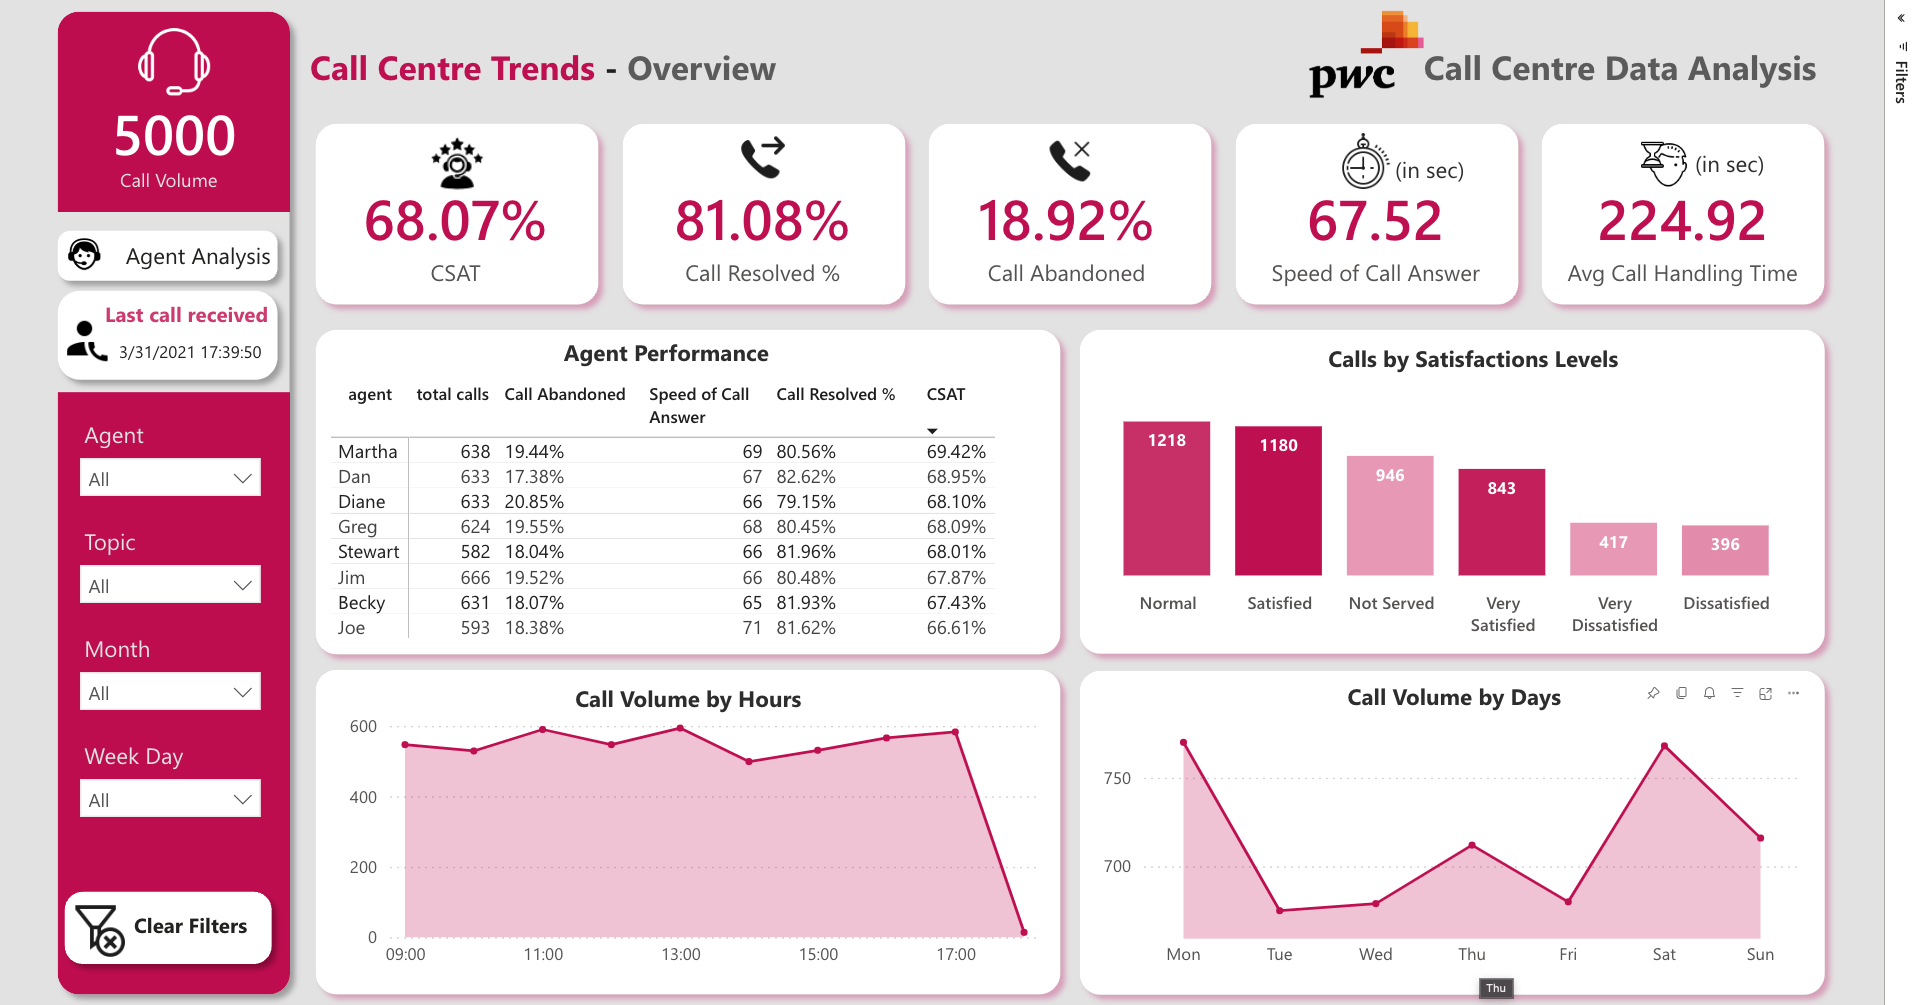

The page's visual inventory and layout, read from the dashboard file:
{"tool":"powerbi","page":{"name":"Dashboard","canvas":[1280,720],"ordinal":1},"visuals":[{"type":"shape","box":[0,0,184,720],"z":0,"group":"g1"},{"type":"group","id":"g1","title":"BG","box":[0,0,1280,720],"z":0},{"type":"shape","box":[184,79.9,220,147.2],"z":0,"group":"g2"},{"type":"slicer","title":"Agent","fields":{"Values":["calls.agent"]},"box":[14.5,288.2,155,80],"z":0,"group":"g3"},{"type":"image","box":[58.2,14.5,67.3,50.9],"z":1000},{"type":"shape","box":[403,79.9,220,147.2],"z":1000,"group":"g2"},{"type":"shape","box":[184,227.1,550,250],"z":1000,"group":"g1"},{"type":"slicer","title":"Topic","fields":{"Values":["calls.topic"]},"box":[14.5,367.3,155,80],"z":1000,"group":"g3"},{"type":"shape","box":[622,79.9,220,147.2],"z":2000,"group":"g2"},{"type":"cardVisual","fields":{"Data":["measeure_table.total calls"]},"box":[199.7,130.7,172.8,79.7],"z":2000,"group":"g1"},{"type":"slicer","title":"Month","fields":{"Values":["calls.Month YY"]},"box":[14.5,446.4,155,80],"z":2000,"group":"g3"},{"type":"textbox","box":[184,26.9,357.3,53],"z":3000,"group":"g1"},{"type":"shape","box":[841,79.9,220,147.2],"z":3000,"group":"g2"},{"type":"slicer","title":"Week Day","fields":{"Values":["calls.Day Name"]},"box":[14.5,525.5,155,80],"z":3000,"group":"g3"},{"type":"image","box":[897.8,0,91.6,79.9],"z":4000,"group":"g1"},{"type":"shape","box":[1060,79.9,220,147.2],"z":4000,"group":"g2"},{"type":"textbox","box":[967.8,26.9,302.5,53],"z":5000,"group":"g1"},{"type":"group","id":"g2","title":"Group 1","box":[184,79.9,1096,147.2],"z":6000,"group":"g1"},{"type":"cardVisual","fields":{"Data":["measeure_table.CSAT"]},"box":[200,128.2,189.1,88.2],"z":6000},{"type":"shape","box":[729.7,227.1,550.3,249.6],"z":7000,"group":"g1"},{"type":"pivotTable","fields":{"Rows":["calls.agent"],"Values":["measeure_table.Total Calls","measeure_table.call abandoned %","measeure_table.Speed of Answer","measeure_table.call resolved %","measeure_table.CSAT"]},"box":[196.4,275.5,520.9,204.5],"z":7000},{"type":"shape","box":[184,470,550,250],"z":8000,"group":"g1"},{"type":"lineChart","fields":{"Category":["calls.Hour"],"Y":["measeure_table.Total Calls"]},"box":[200,508.2,515.5,190.9],"z":8000},{"type":"shape","box":[729.7,470.4,550.3,249.6],"z":9000,"group":"g1"},{"type":"lineChart","fields":{"Category":["calls.Day Name"],"Y":["measeure_table.Total Calls"]},"box":[748.2,508.2,515.5,191.8],"z":9000},{"type":"shape","box":[7.9,152.3,167,128.7],"z":10000,"group":"g1"},{"type":"clusteredColumnChart","fields":{"Category":["calls.Satisfactions Level"],"Y":["measeure_table.Total Calls"]},"box":[746.4,260,515.5,215.5],"z":10000},{"type":"shape","box":[0,199.3,175.1,81.7],"z":11000,"group":"g1"},{"type":"advanceCardE03760C5AB684758B56AA29F9E6C257B","fields":{"mainMeasure":["measeure_table.Last call"]},"box":[48.2,232.7,106.4,30.9],"z":11000},{"type":"shape","box":[0,156.2,175.1,53.9],"z":12000,"group":"g1"},{"type":"group","id":"g3","title":"Slicers","box":[14.5,288.2,155,317.3],"z":12000},{"type":"advanceCardE03760C5AB684758B56AA29F9E6C257B","fields":{"mainMeasure":["measeure_table.Total Calls"]},"box":[22.7,58.2,141.8,70],"z":13000},{"type":"shape","box":[5.3,628.9,165.9,69.8],"z":13000,"group":"g1"},{"type":"textbox","box":[44.5,113.6,102.7,28.2],"z":13001},{"type":"cardVisual","fields":{"Data":["measeure_table.call resolved %"]},"box":[418.2,130.9,189.1,85.5],"z":13002},{"type":"cardVisual","fields":{"Data":["measeure_table.call abandoned %"]},"box":[637.3,130.9,189.1,85.5],"z":13003},{"type":"cardVisual","fields":{"Data":["measeure_table.Speed of Answer"]},"box":[856.4,130.9,189.1,90],"z":13004},{"type":"cardVisual","fields":{"Data":["measeure_table.Avg Call Handling Time"]},"box":[1067.3,124.5,204.5,91.8],"z":13005},{"type":"textbox","box":[957.3,107.3,65.5,30.9],"z":13006},{"type":"textbox","box":[1185.5,101.8,65.5,30.9],"z":13007},{"type":"textbox","box":[330,242.7,258.2,27.3],"z":13008,"group":"g1"},{"type":"textbox","box":[877.3,242.7,258.2,27.3],"z":13008},{"type":"textbox","box":[307.3,480,300,28.2],"z":13009},{"type":"textbox","box":[863.6,480,284.5,28.2],"z":13010,"group":"g1"},{"type":"image","box":[15.5,639.1,57.1,51.8],"z":14000,"group":"g1"},{"type":"textbox","box":[64.5,649.1,100,31.8],"z":15000,"group":"g1"},{"type":"textbox","box":[9.9,210.1,154.4,32.3],"z":16000,"group":"g1"},{"type":"image","box":[5.4,220.8,45.8,43.1],"z":17000,"group":"g1"},{"type":"textbox","box":[9.8,167,156.2,32.4],"z":18000,"group":"g1"},{"type":"image","title":"Agent","box":[8.8,166,39.3,33.4],"z":19000,"group":"g1"},{"type":"image","box":[262.5,90.5,62.5,53.4],"z":20000,"group":"g1"},{"type":"image","box":[482.5,89.6,58.8,48.9],"z":21000,"group":"g1"},{"type":"image","box":[708.3,94.1,46.2,43.2],"z":22000,"group":"g1"},{"type":"image","box":[917.5,90.4,50.1,50.1],"z":23000,"group":"g1"},{"type":"image","box":[1149.1,92.7,42.5,46.2],"z":24000,"group":"g1"}]}

Visuals, with their boxes on the page's 1280x720 design canvas (x1, y1, x2, y2). These are canvas units, not pixel positions in the 1917x1005 screenshot, which may show the page scaled, cropped or inside an application window:
shape: locate(0, 0, 184, 720)
"BG" group: locate(0, 0, 1280, 720)
shape: locate(184, 80, 404, 227)
"Agent" slicer: locate(14, 288, 170, 368)
image: locate(58, 14, 126, 65)
shape: locate(403, 80, 623, 227)
shape: locate(184, 227, 734, 477)
"Topic" slicer: locate(14, 367, 170, 447)
shape: locate(622, 80, 842, 227)
cardVisual - measeure_table.total calls: locate(200, 131, 372, 210)
"Month" slicer: locate(14, 446, 170, 526)
textbox: locate(184, 27, 541, 80)
shape: locate(841, 80, 1061, 227)
"Week Day" slicer: locate(14, 526, 170, 606)
image: locate(898, 0, 989, 80)
shape: locate(1060, 80, 1280, 227)
textbox: locate(968, 27, 1270, 80)
"Group 1" group: locate(184, 80, 1280, 227)
cardVisual - measeure_table.CSAT: locate(200, 128, 389, 216)
shape: locate(730, 227, 1280, 477)
pivotTable - calls.agent x measeure_table.Total Calls: locate(196, 276, 717, 480)
shape: locate(184, 470, 734, 720)
lineChart - calls.Hour x measeure_table.Total Calls: locate(200, 508, 716, 699)
shape: locate(730, 470, 1280, 720)
lineChart - calls.Day Name x measeure_table.Total Calls: locate(748, 508, 1264, 700)
shape: locate(8, 152, 175, 281)
clusteredColumnChart - calls.Satisfactions Level x measeure_table.Total Calls: locate(746, 260, 1262, 476)
shape: locate(0, 199, 175, 281)
advanceCardE03760C5AB684758B56AA29F9E6C257B - measeure_table.Last call: locate(48, 233, 155, 264)
shape: locate(0, 156, 175, 210)
"Slicers" group: locate(14, 288, 170, 606)
advanceCardE03760C5AB684758B56AA29F9E6C257B - measeure_table.Total Calls: locate(23, 58, 164, 128)
shape: locate(5, 629, 171, 699)
textbox: locate(44, 114, 147, 142)
cardVisual - measeure_table.call resolved %: locate(418, 131, 607, 216)
cardVisual - measeure_table.call abandoned %: locate(637, 131, 826, 216)
cardVisual - measeure_table.Speed of Answer: locate(856, 131, 1046, 221)
cardVisual - measeure_table.Avg Call Handling Time: locate(1067, 124, 1272, 216)
textbox: locate(957, 107, 1023, 138)
textbox: locate(1186, 102, 1251, 133)
textbox: locate(330, 243, 588, 270)
textbox: locate(877, 243, 1136, 270)
textbox: locate(307, 480, 607, 508)
textbox: locate(864, 480, 1148, 508)
image: locate(16, 639, 73, 691)
textbox: locate(64, 649, 164, 681)
textbox: locate(10, 210, 164, 242)
image: locate(5, 221, 51, 264)
textbox: locate(10, 167, 166, 199)
"Agent" image: locate(9, 166, 48, 199)
image: locate(262, 90, 325, 144)
image: locate(482, 90, 541, 138)
image: locate(708, 94, 754, 137)
image: locate(918, 90, 968, 140)
image: locate(1149, 93, 1192, 139)
